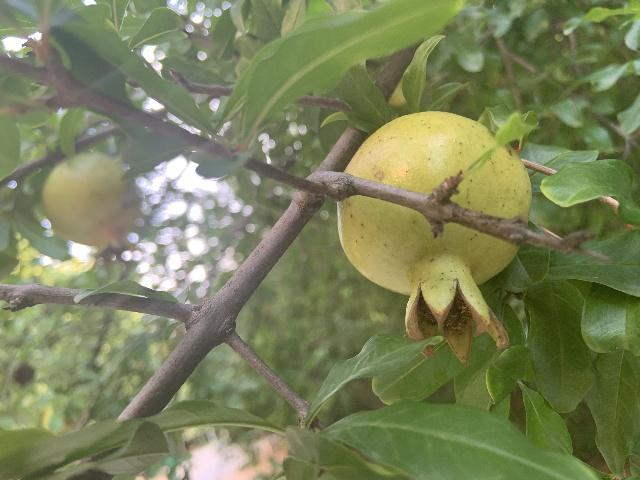mid-growth: (337, 110, 534, 366), (41, 153, 142, 273)
